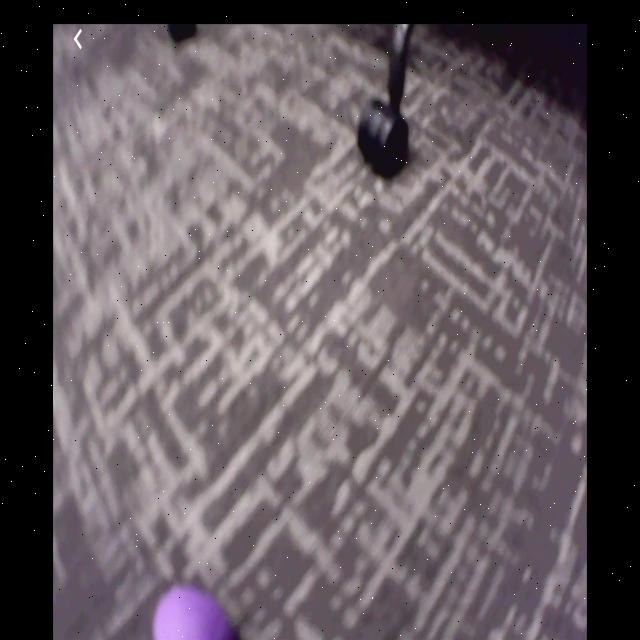ball: (150, 585, 239, 638)
